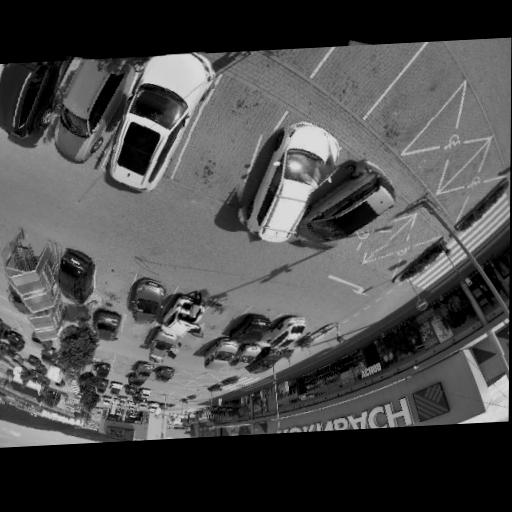busy: (100, 52, 210, 202), (230, 119, 345, 249), (301, 163, 401, 257), (46, 54, 125, 172), (0, 61, 58, 147), (2, 233, 60, 319), (52, 248, 96, 307), (127, 277, 170, 326), (163, 292, 206, 334), (267, 315, 312, 349), (89, 306, 127, 345), (212, 340, 257, 369), (231, 314, 271, 343), (205, 338, 241, 369), (149, 331, 182, 361), (247, 348, 281, 374), (231, 343, 261, 369), (3, 329, 27, 352), (131, 359, 154, 381), (92, 359, 115, 380), (156, 366, 175, 385), (42, 344, 60, 363)
free: (198, 118, 253, 171), (342, 40, 403, 86), (389, 79, 441, 126), (205, 306, 235, 330), (100, 271, 128, 296), (126, 319, 152, 339), (90, 347, 114, 359), (183, 338, 201, 351), (118, 356, 135, 369)
